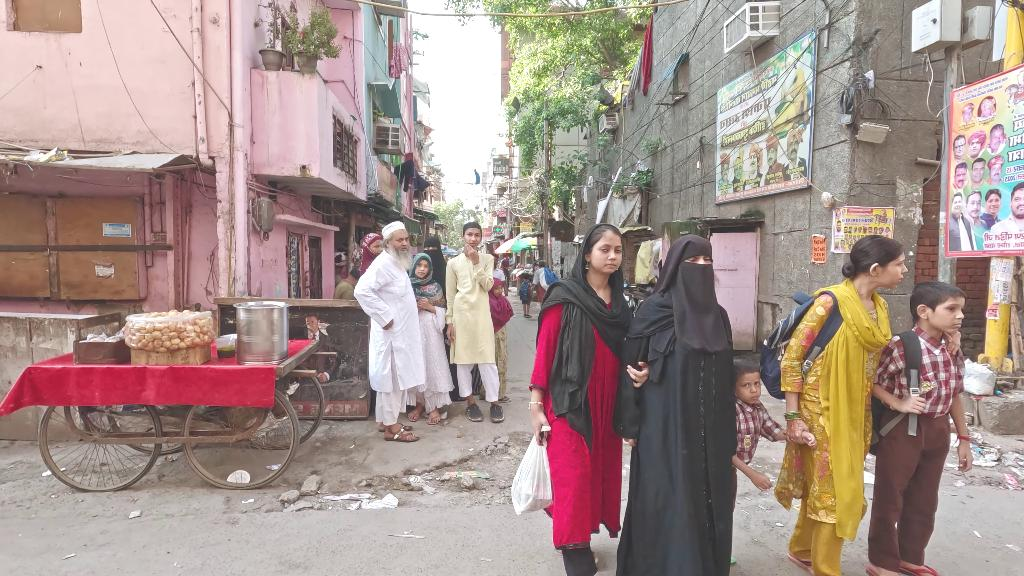garbage: (324, 495, 404, 515), (219, 464, 267, 491)
